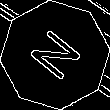N_SE: (23, 24, 87, 86)
